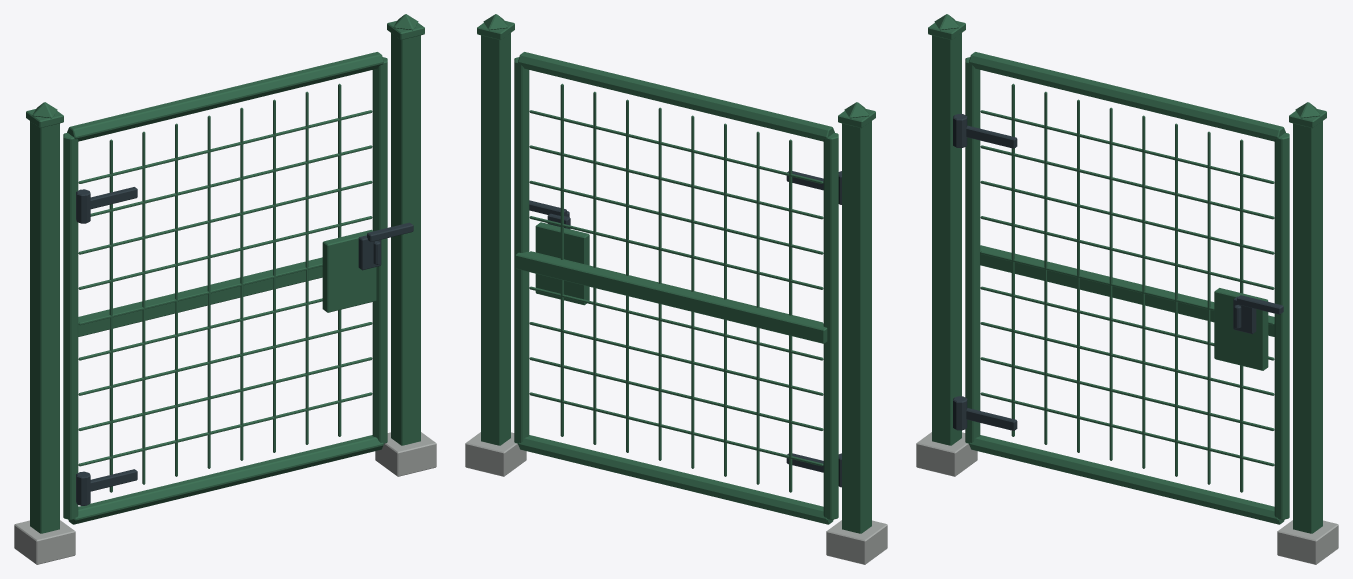
The model's file is b19_welded_mesh_industrial_gate.glb.
3 views of the same model, side by side, from view 1: azimuth 30°, elevation 25°; view 2: azimuth 150°, elevation 25°; view 3: azimuth 330°, elevation 25° (orthographic).
Parts seen in each view (by area): view 1: b19_welded_mesh_industrial_gate; view 2: b19_welded_mesh_industrial_gate; view 3: b19_welded_mesh_industrial_gate.
Part boxes in pixels (bbox=[...]): b19_welded_mesh_industrial_gate: bbox=[14, 14, 436, 564]; b19_welded_mesh_industrial_gate: bbox=[465, 14, 887, 564]; b19_welded_mesh_industrial_gate: bbox=[916, 14, 1338, 564].
Bounding box in the file's own units: 2.02 × 2.17 × 0.2947.
